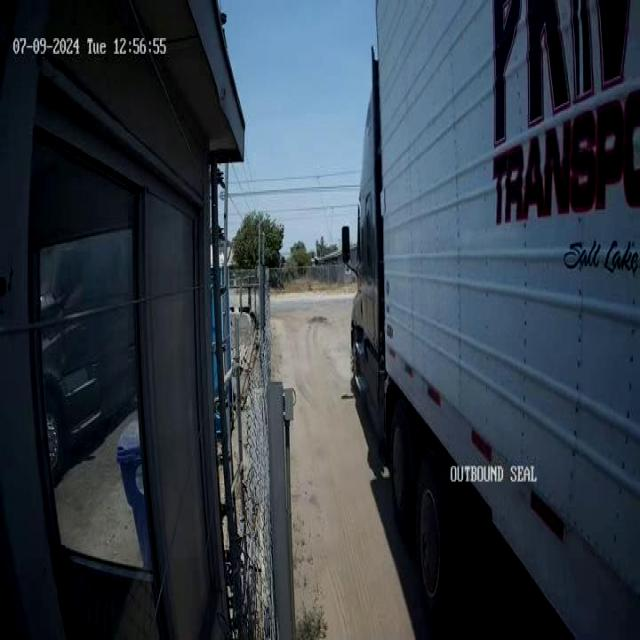TRUCK_CONTAINER: (341, 1, 639, 636)
